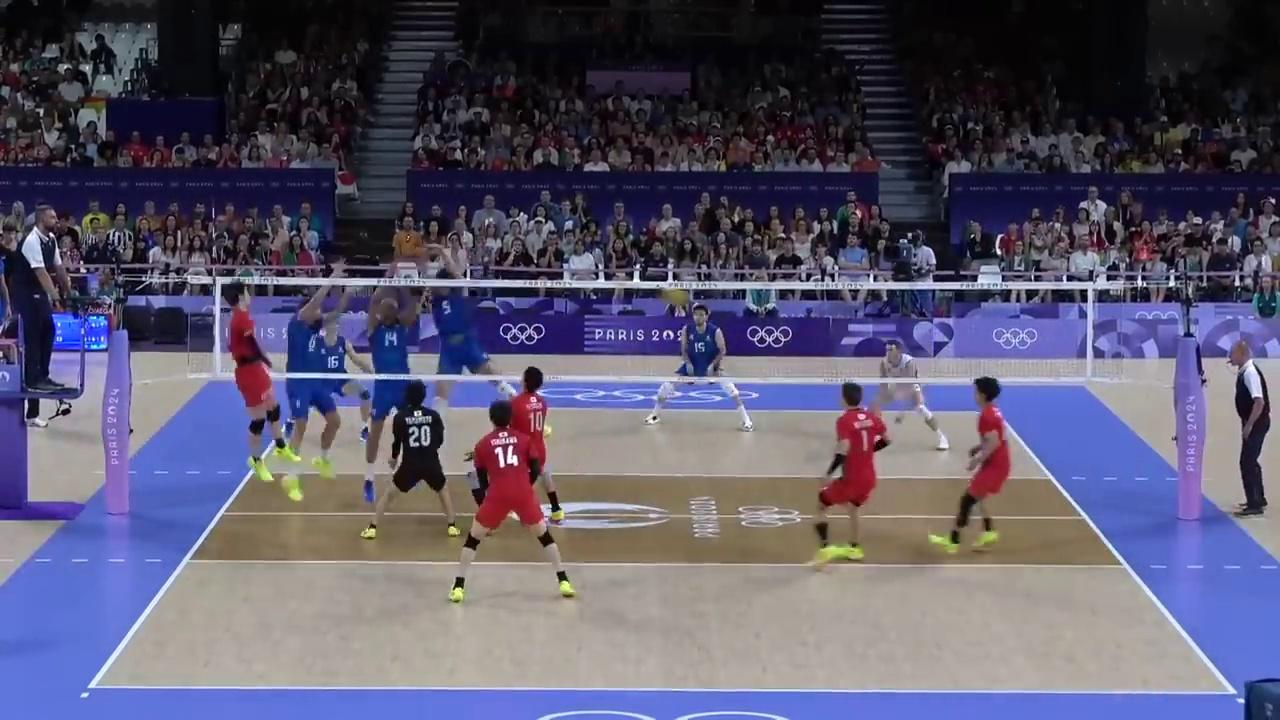ball: (662, 288, 691, 305)
